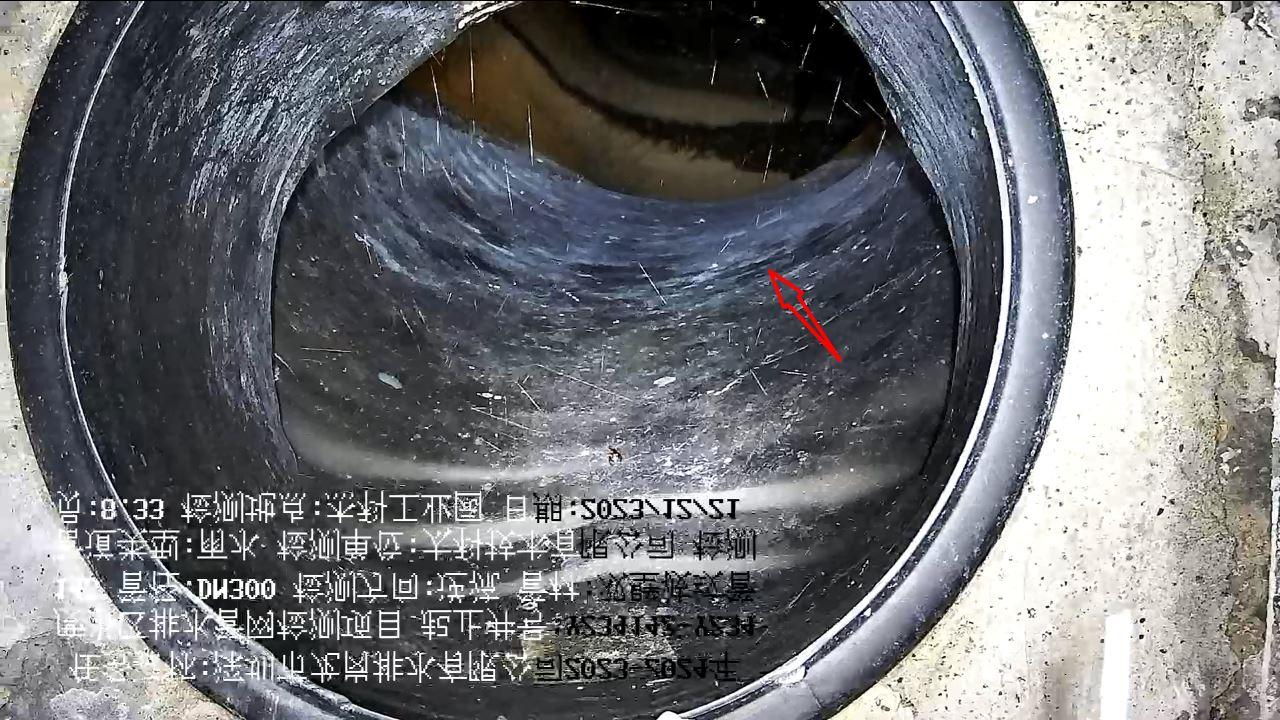BX: (302, 75, 910, 334)
